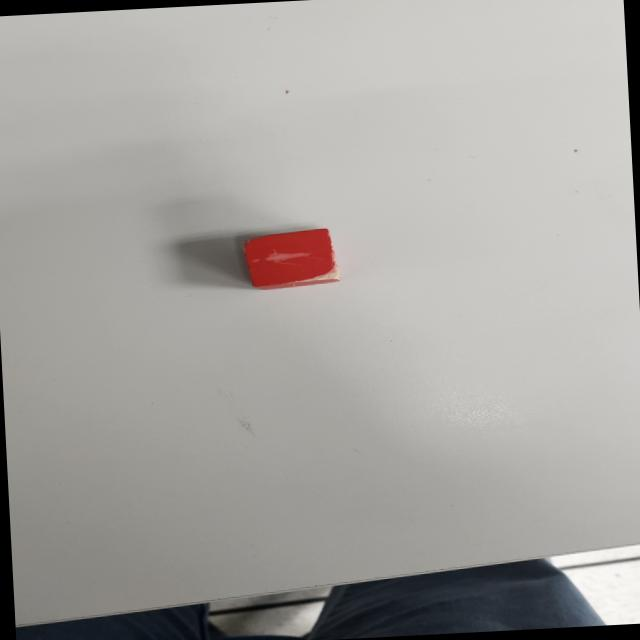broken: (244, 227, 336, 290)
